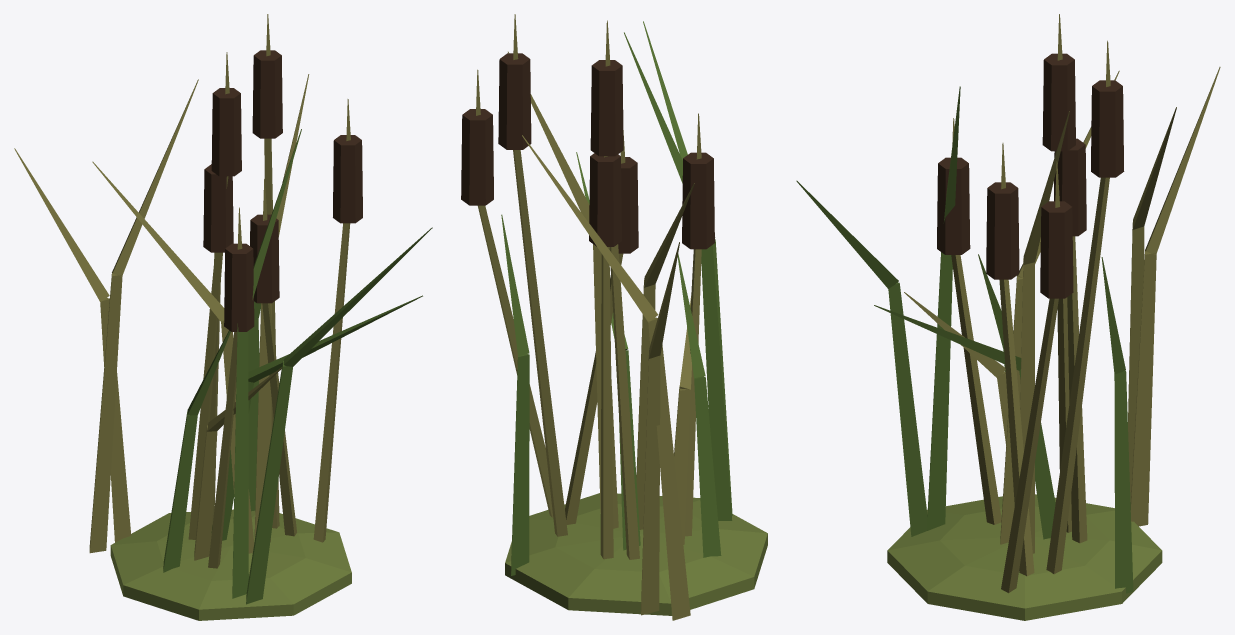
File: cattail.glb
The picture shows the model from 3 angles, left to right: view 1: azimuth 30°, elevation 25°; view 2: azimuth 150°, elevation 25°; view 3: azimuth 270°, elevation 25°; orthographic projection. The views are drawn at different scales.
Visible parts, largest first — view 1: Cattail; view 2: Cattail; view 3: Cattail.
Part boxes in pixels (bbox=[...]): Cattail: bbox=[14, 14, 432, 620]; Cattail: bbox=[461, 14, 767, 620]; Cattail: bbox=[796, 14, 1220, 620].
Size of the model in its own units: 0.6204 by 1.14 by 0.7636.
